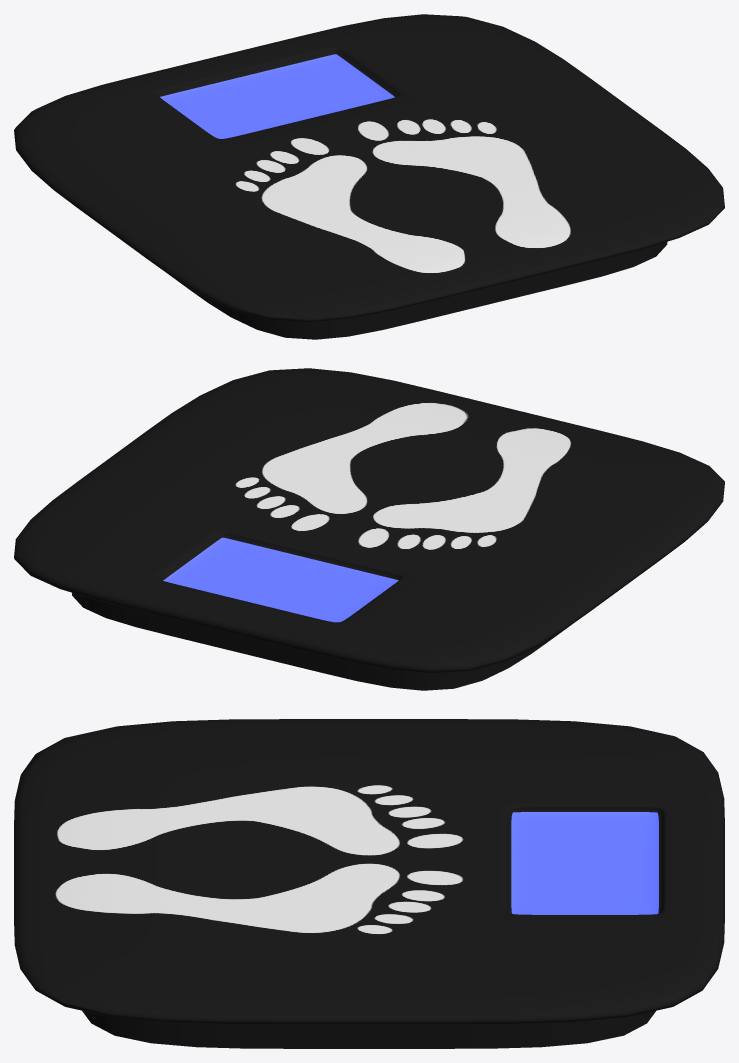
3 views of the same model, one above another, from view 1: azimuth 30°, elevation 25°; view 2: azimuth 150°, elevation 25°; view 3: azimuth 270°, elevation 25° (orthographic). The views are drawn at different scales.
Visible parts, largest first — view 1: Weighing_Scale; view 2: Weighing_Scale; view 3: Weighing_Scale.
Part boxes in pixels (bbox=[...]): Weighing_Scale: bbox=[14, 14, 724, 339]; Weighing_Scale: bbox=[14, 368, 724, 690]; Weighing_Scale: bbox=[14, 719, 724, 1048].
Bounding box in the file's own units: 0.299 × 0.03 × 0.2991.
1 material, 1 textured.
